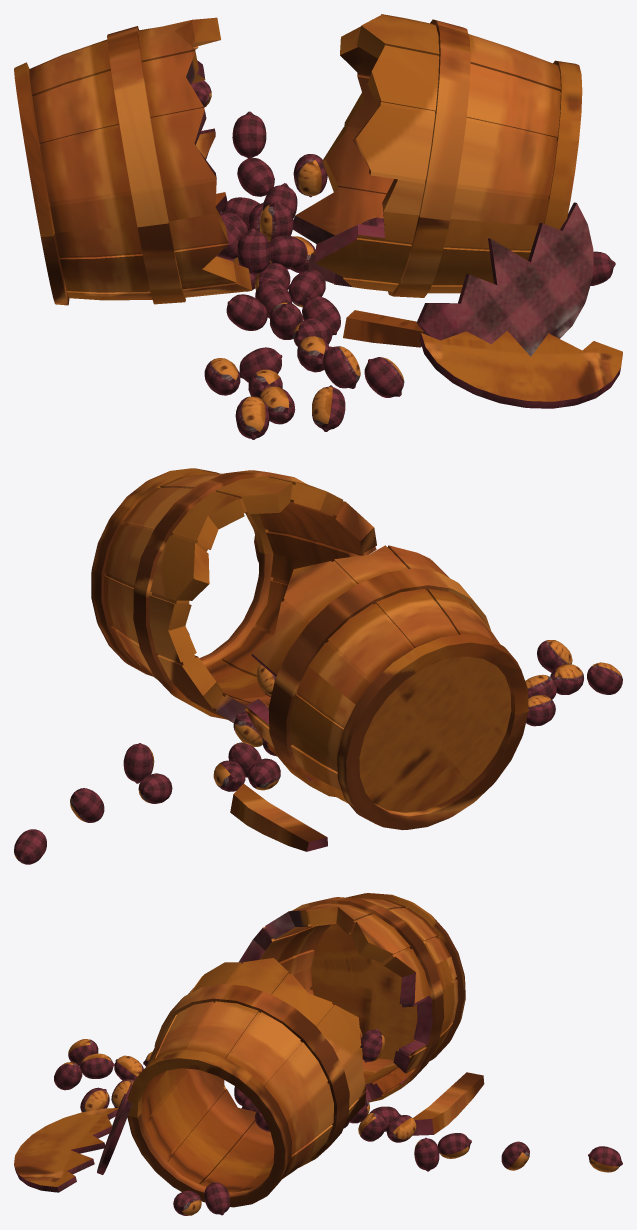
Rendered from barrel of broken fruit_8.fbx.
3 renders of one model, top to bottom at view 1: azimuth 30°, elevation 25°; view 2: azimuth 150°, elevation 25°; view 3: azimuth 270°, elevation 25°, orthographic. The views are drawn at different scales.
Visible parts, largest first — view 1: Circle.035, Circle.036, Plane.1790, Plane.1796, Plane.1806, Plane.1786, Plane.1813, Plane.1789, Plane.1816, Plane.1782, Plane.1812, Plane.1807 (+14 smaller); view 2: Circle.035, Plane.1782, Plane.1806, Plane.1794, Plane.1789, Plane.1786, Plane.1812, Plane.1797, Plane.1788, Plane.1792, Plane.1807, Plane.1811 (+2 smaller); view 3: Circle.035, Circle.036, Plane.1794, Plane.1792, Plane.1793, Plane.1812, Plane.1782, Plane.1809, Plane.1788, Plane.1806, Plane.1800, Plane.1786 (+4 smaller).
Part boxes in pixels (x1,y1,x2,y2): Circle.035: [14, 14, 582, 347]; Circle.036: [416, 202, 622, 408]; Plane.1790: [364, 357, 404, 397]; Plane.1796: [323, 346, 360, 388]; Plane.1806: [232, 111, 266, 158]; Plane.1786: [312, 385, 345, 431]; Plane.1813: [237, 228, 270, 275]; Plane.1789: [235, 396, 269, 439]; Plane.1816: [226, 294, 267, 330]; Plane.1782: [293, 154, 327, 197]; Plane.1812: [237, 157, 274, 196]; Plane.1807: [204, 358, 240, 395]; Circle.035: [91, 468, 528, 851]; Plane.1782: [123, 743, 154, 783]; Plane.1806: [70, 788, 104, 822]; Plane.1794: [14, 829, 46, 864]; Plane.1789: [587, 662, 622, 694]; Plane.1786: [537, 640, 572, 672]; Plane.1812: [138, 773, 172, 803]; Plane.1797: [248, 758, 280, 790]; Plane.1788: [213, 760, 245, 791]; Plane.1792: [550, 664, 583, 694]; Plane.1807: [526, 695, 555, 726]; Plane.1811: [233, 711, 266, 746]; Circle.035: [127, 893, 484, 1207]; Circle.036: [14, 1084, 132, 1192]; Plane.1794: [588, 1146, 622, 1172]; Plane.1792: [80, 1053, 114, 1078]; Plane.1793: [204, 1182, 230, 1215]; Plane.1812: [438, 1133, 471, 1158]; Plane.1782: [414, 1137, 439, 1171]; Plane.1809: [360, 1028, 384, 1062]; Plane.1788: [386, 1115, 416, 1142]; Plane.1806: [501, 1141, 529, 1170]; Plane.1800: [358, 1112, 386, 1141]; Plane.1786: [54, 1062, 82, 1090].
Size of the model in its own units: 73.73 by 37.01 by 103.
